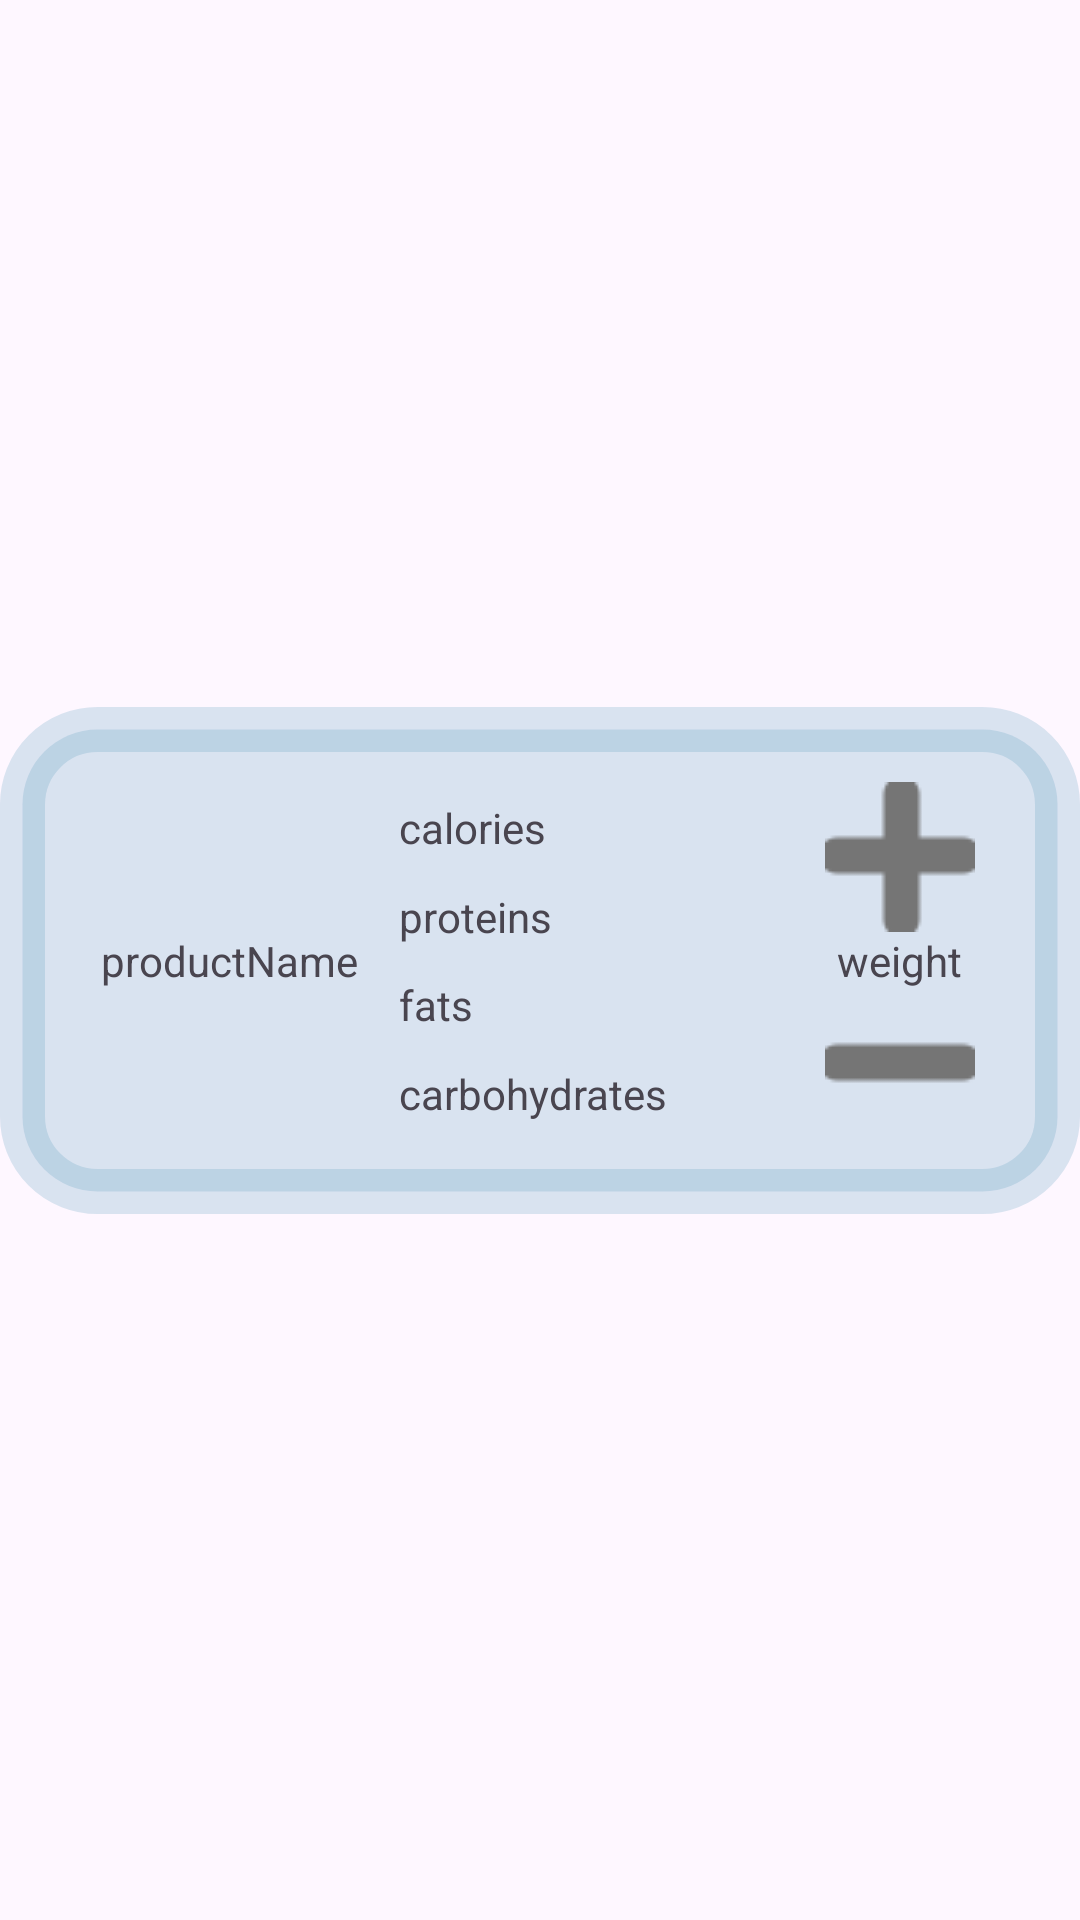

Icons on this 1080w x 1920h Android screen, each with the point to tap as (x=x, y=y):
minus: (x=900, y=1062)
plus: (x=900, y=857)
